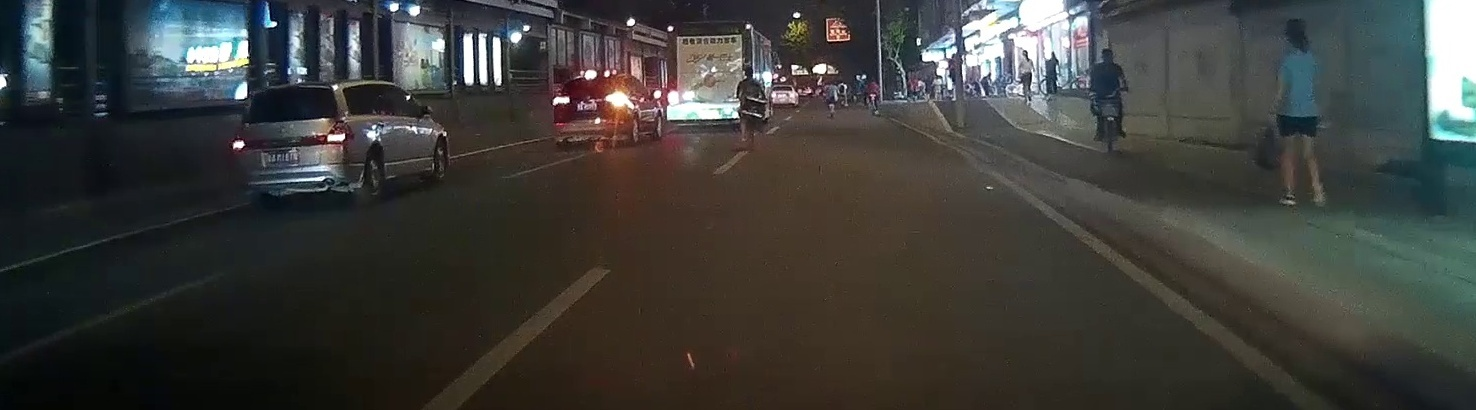L_light: (230, 133, 247, 152), (552, 95, 571, 106)
R_light: (324, 121, 355, 145), (604, 92, 629, 105)
T_light: (277, 85, 299, 90), (584, 72, 598, 78)
night-no: (229, 82, 360, 208)
night-right: (550, 71, 633, 149)
